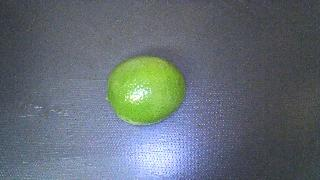EXPORTACION: (106, 56, 186, 125)
